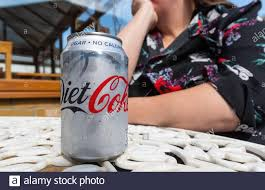can: (57, 31, 130, 160)
